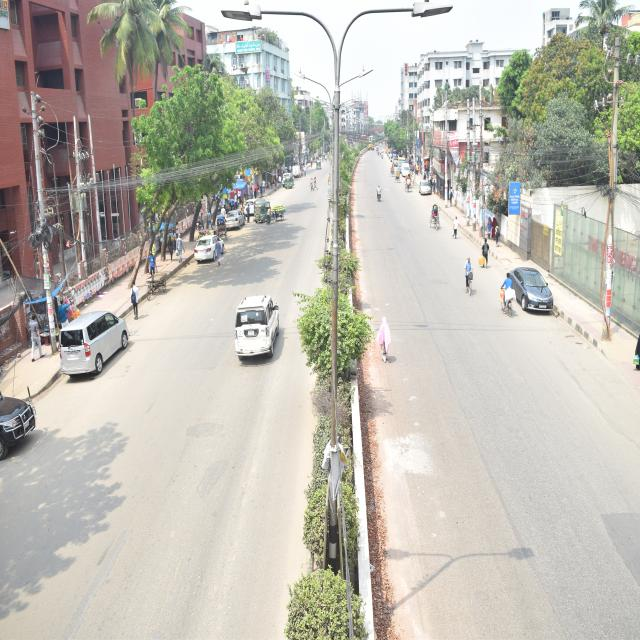car: (40, 282, 171, 412), (222, 256, 334, 402), (0, 330, 64, 490), (492, 242, 576, 338), (178, 218, 233, 280), (213, 201, 266, 259), (228, 165, 268, 225), (412, 172, 441, 214), (399, 158, 420, 190), (276, 165, 296, 189)
motorbike: (370, 179, 395, 222)
pickup-van: (294, 159, 306, 193)
